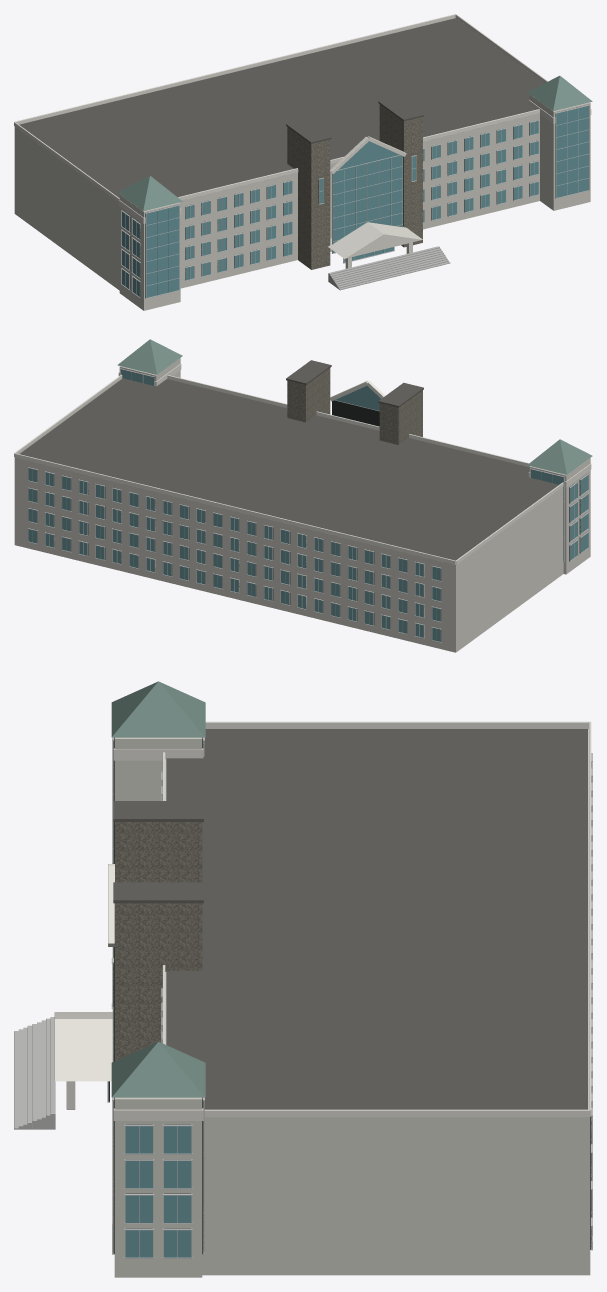
3 views of the same model, one above another, from view 1: azimuth 30°, elevation 25°; view 2: azimuth 150°, elevation 25°; view 3: azimuth 270°, elevation 25° (orthographic). The views are drawn at different scales.
Parts seen in each view (by area): view 1: estimated-flat-roof__roof, wide-main-body__clad, central-stone-turrets__stone, front-wing-window-grid__glass, corner-tower-curtain-wall__glass, central-gable-curtain-wall__glass, estimated-flat-roof__trim, corner-glass-tower-body__clad, front-wing-window-grid__frame, corner-pyramid-roofs__tower-roof, broad-entrance-stairs__concrete, entry-gable-canopy__trim (+9 smaller); view 2: estimated-flat-roof__roof, wide-main-body__clad, estimated-rear-windows__glass, estimated-rear-windows__frame, estimated-flat-roof__trim, central-stone-turrets__stone, corner-pyramid-roofs__tower-roof, corner-glass-tower-body__clad, estimated-rear-windows__dark, turret-coping__roof, corner-tower-side-glass__glass, corner-tower-side-glass__frame (+3 smaller); view 3: estimated-flat-roof__roof, wide-main-body__clad, central-stone-turrets__stone, corner-glass-tower-body__clad, corner-pyramid-roofs__tower-roof, estimated-flat-roof__trim, corner-tower-side-glass__glass, broad-entrance-stairs__concrete, entry-gable-canopy__trim, turret-coping__roof, corner-tower-stone-belt__trim, corner-tower-side-glass__frame (+1 smaller).
Part boxes in pixels (x1,y1,x2,y2): estimated-flat-roof__roof: (19, 18, 544, 197); wide-main-body__clad: (14, 113, 539, 290); central-stone-turrets__stone: (287, 104, 422, 269); front-wing-window-grid__glass: (186, 121, 538, 280); corner-tower-curtain-wall__glass: (146, 106, 588, 297); central-gable-curtain-wall__glass: (333, 155, 402, 252); estimated-flat-roof__trim: (14, 14, 547, 201); corner-glass-tower-body__clad: (119, 94, 590, 310); front-wing-window-grid__frame: (185, 120, 539, 281); corner-pyramid-roofs__tower-roof: (117, 75, 592, 211); broad-entrance-stairs__concrete: (328, 246, 450, 290); entry-gable-canopy__trim: (328, 222, 422, 258); estimated-flat-roof__roof: (19, 378, 558, 560); wide-main-body__clad: (14, 457, 563, 652); estimated-rear-windows__glass: (28, 468, 440, 641); estimated-rear-windows__frame: (28, 467, 441, 642); estimated-flat-roof__trim: (14, 374, 563, 564); central-stone-turrets__stone: (287, 368, 422, 444); corner-pyramid-roofs__tower-roof: (117, 339, 592, 474); corner-glass-tower-body__clad: (119, 358, 590, 574); estimated-rear-windows__dark: (31, 470, 441, 641); turret-coping__roof: (286, 360, 423, 407); corner-tower-side-glass__glass: (570, 475, 588, 560); corner-tower-side-glass__frame: (569, 474, 588, 561); estimated-flat-roof__roof: (166, 729, 587, 1109); wide-main-body__clad: (165, 729, 590, 1275); central-stone-turrets__stone: (114, 822, 202, 1060); corner-glass-tower-body__clad: (114, 737, 202, 1277); corner-pyramid-roofs__tower-roof: (111, 681, 205, 1097); estimated-flat-roof__trim: (162, 721, 591, 1117); corner-tower-side-glass__glass: (125, 1126, 191, 1257); broad-entrance-stairs__concrete: (14, 1017, 55, 1129); entry-gable-canopy__trim: (54, 1012, 112, 1081); turret-coping__roof: (113, 801, 203, 903); corner-tower-stone-belt__trim: (113, 748, 203, 1120); corner-tower-side-glass__frame: (124, 1124, 192, 1258).
Bounding box in the file's own units: 85.6 × 23.3 × 52.98.
Materials: 9 (1 with a texture image).
